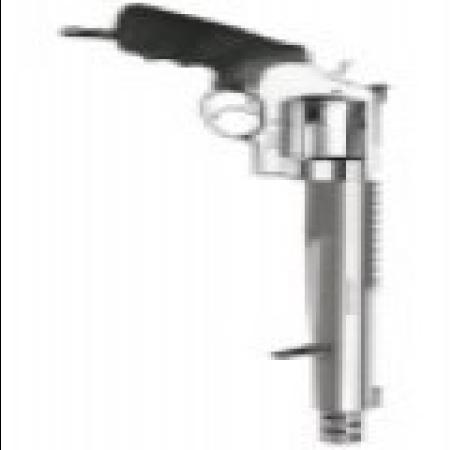Pistol: (124, 3, 405, 439)
